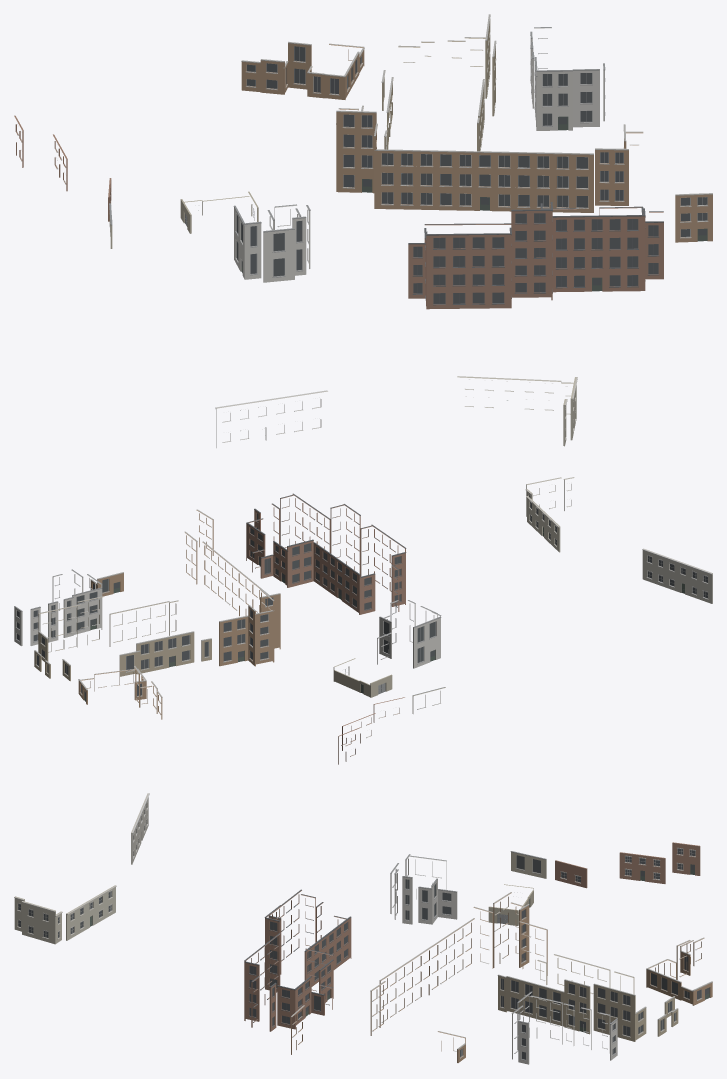
3 renders of one model, top to bottom at view 1: azimuth 30°, elevation 25°; view 2: azimuth 150°, elevation 25°; view 3: azimuth 270°, elevation 25°, orthographic. The views are drawn at different scales.
Visible parts, largest first — view 1: f:way/1302867822, f:way/151911585, f:way/151911583, f:way/130068002, f:way/130067997, f:way/130067979, f:way/169842514; view 2: f:way/151911585, f:way/1302867822, f:way/130067979, f:way/130068002, f:way/169842496, f:way/151911583, f:way/169842514, f:way/130067997, f:way/130067996; view 3: f:way/151911585, f:way/130067979, f:way/1302867822, f:way/169842514, f:way/130068001, f:way/151911583, f:way/130067997, f:way/130068002, f:way/152188686, f:way/169842496, f:way/130067996.
Boxes of the visible parts, x1,y1,x2,y2 form: f:way/1302867822: [336, 105, 712, 242]; f:way/151911585: [408, 202, 663, 309]; f:way/151911583: [233, 204, 310, 282]; f:way/130068002: [530, 27, 605, 130]; f:way/130067997: [241, 41, 364, 99]; f:way/130067979: [381, 14, 496, 151]; f:way/169842514: [457, 376, 577, 446]; f:way/151911585: [246, 493, 406, 614]; f:way/1302867822: [90, 509, 280, 666]; f:way/130067979: [34, 596, 211, 681]; f:way/130068002: [14, 569, 102, 646]; f:way/169842496: [642, 548, 712, 603]; f:way/151911583: [377, 600, 441, 668]; f:way/169842514: [525, 477, 574, 552]; f:way/130067997: [78, 666, 162, 719]; f:way/130067996: [333, 658, 392, 697]; f:way/151911585: [244, 889, 351, 1031]; f:way/130067979: [497, 954, 678, 1041]; f:way/1302867822: [291, 892, 547, 1062]; f:way/169842514: [14, 885, 116, 944]; f:way/130068001: [555, 842, 700, 888]; f:way/151911583: [390, 854, 457, 924]; f:way/130067997: [646, 937, 712, 1005]; f:way/130068002: [511, 991, 617, 1064]; f:way/152188686: [510, 851, 546, 878]; f:way/169842496: [131, 793, 149, 864]; f:way/130067996: [488, 884, 533, 925].
Size of the model in its own units: 113 by 15.92 by 137.
